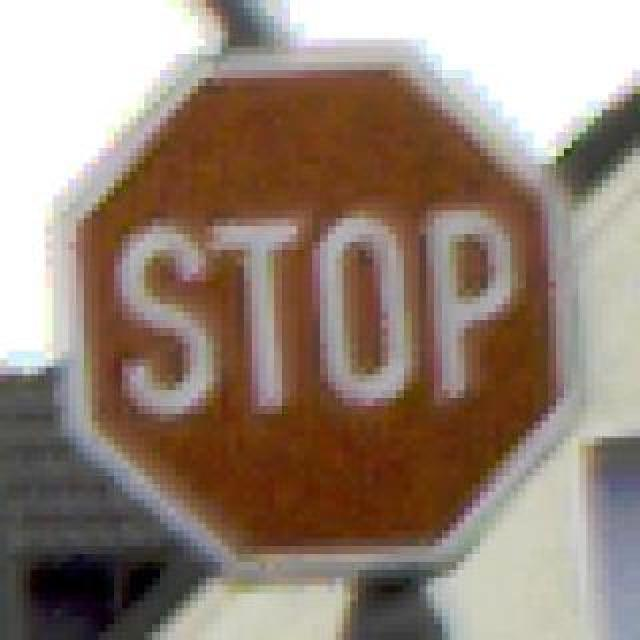stop: (46, 38, 570, 578)
